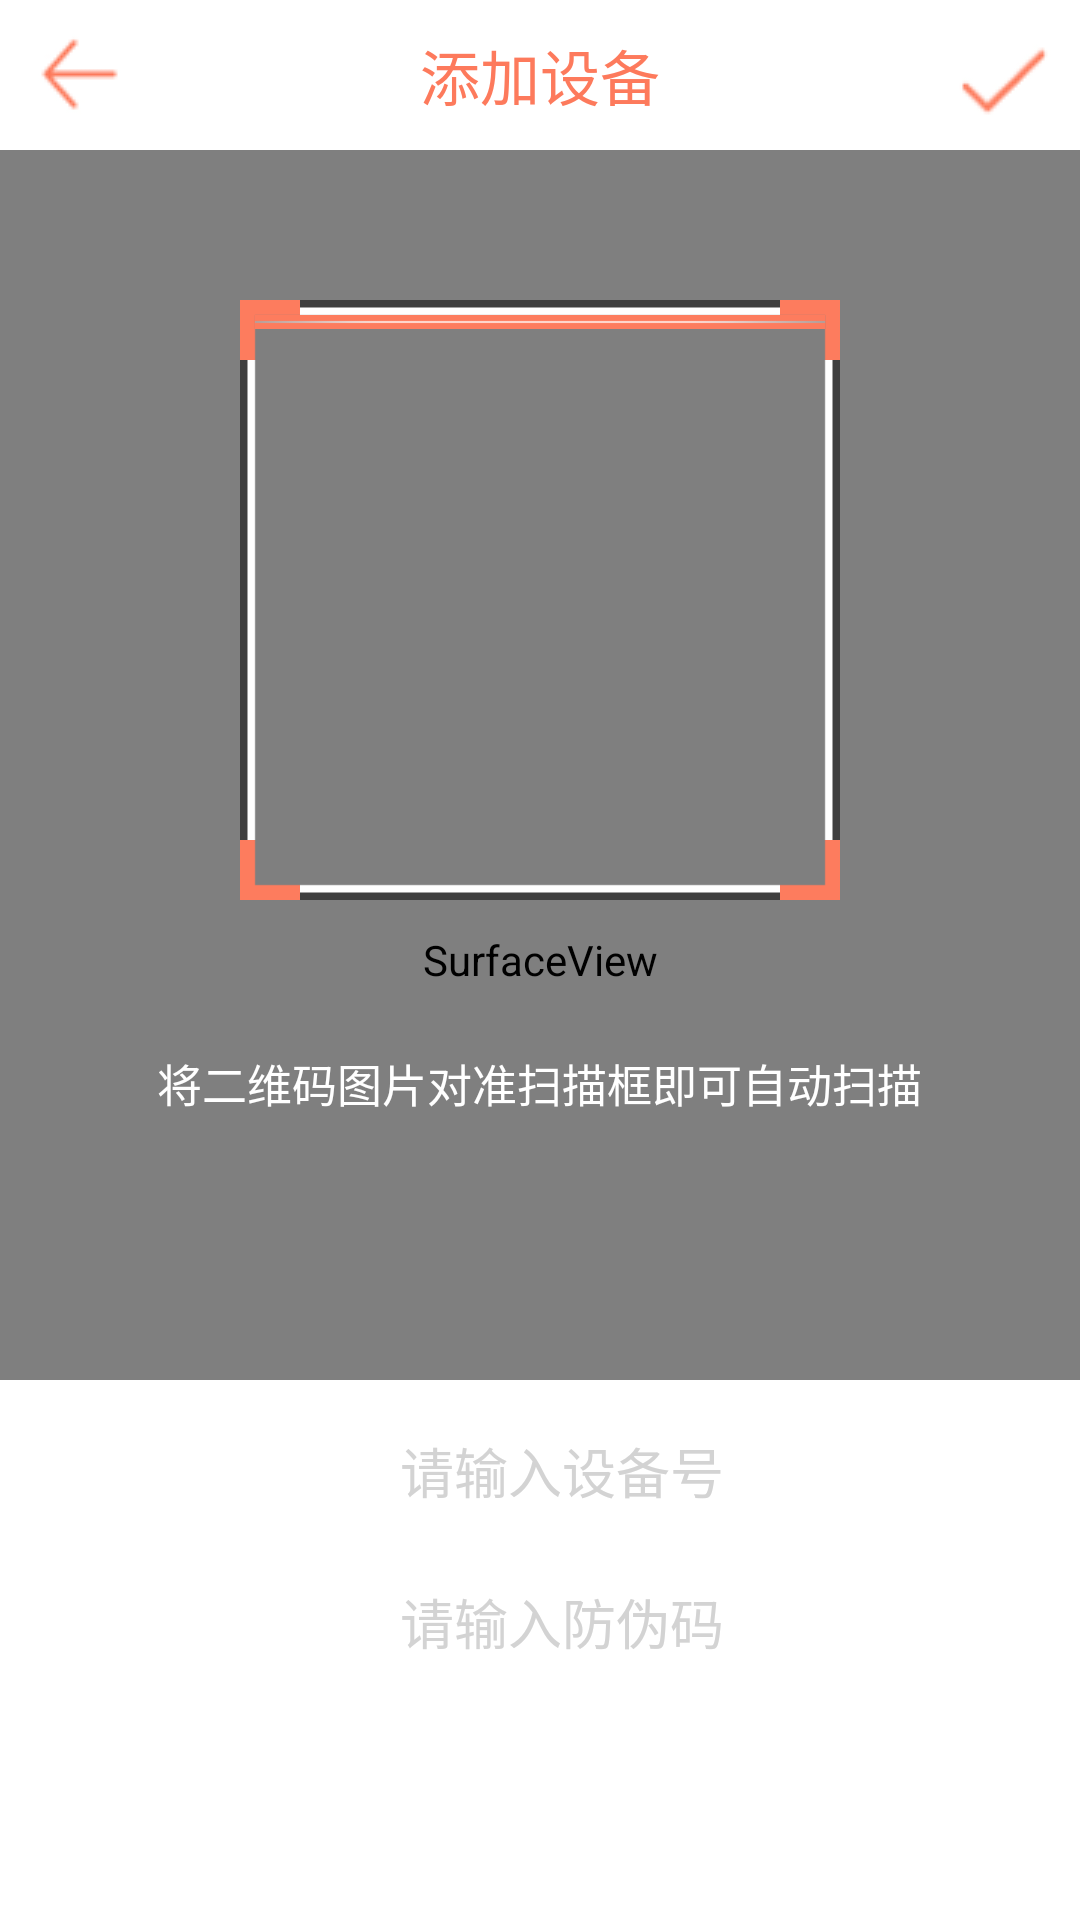

Named icons in this screenshot (1080 × 1920) and their centers, [x,y]:
duigou: [1003,81]
zuo: [80,74]
